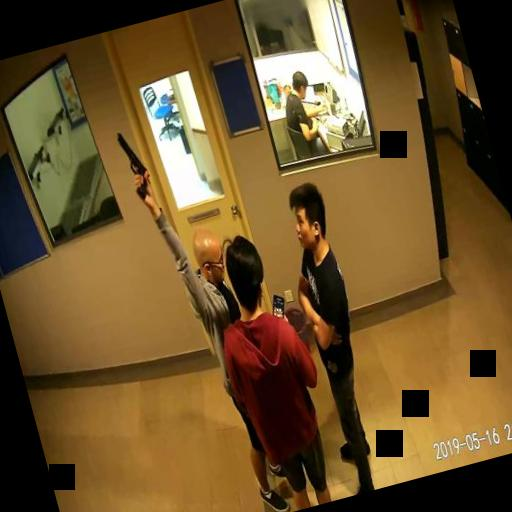Handgun: (114, 125, 152, 200)
